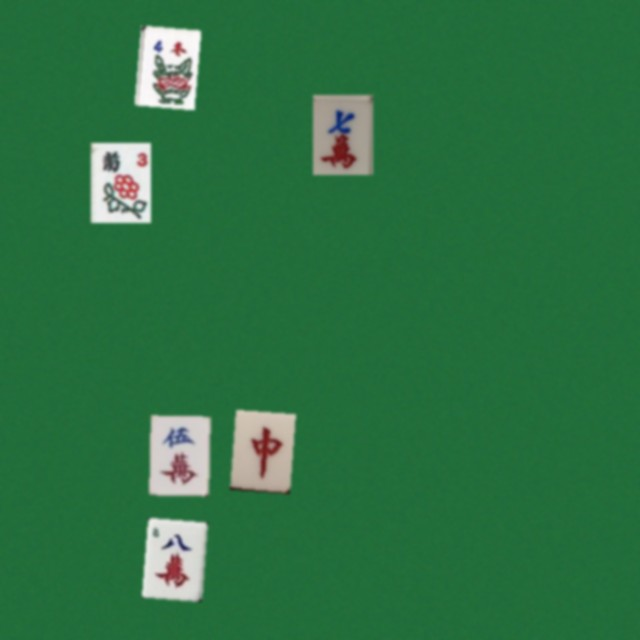tile: (141, 517, 201, 597), (90, 142, 150, 222), (230, 409, 290, 489), (149, 415, 209, 495), (312, 94, 372, 174), (134, 25, 194, 105)
